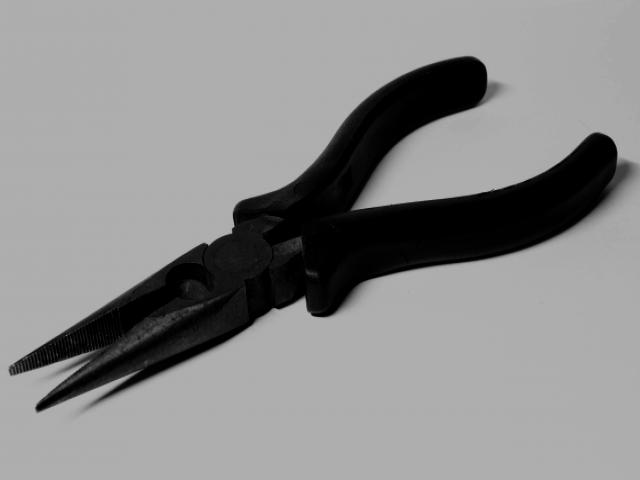Needle-nose pliers: (10, 58, 616, 410)
